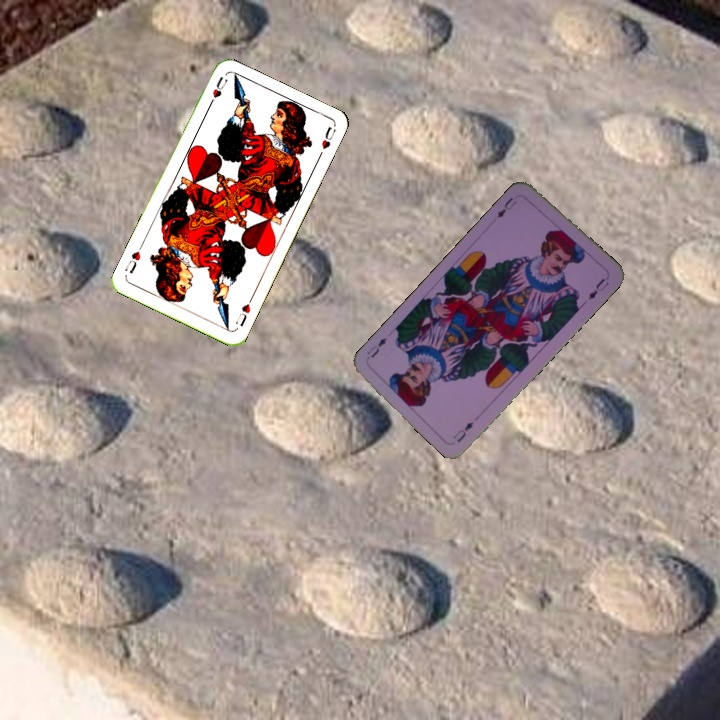EU: (449, 417, 476, 445), (493, 193, 519, 221)
HU: (205, 72, 230, 109), (232, 293, 255, 329)
